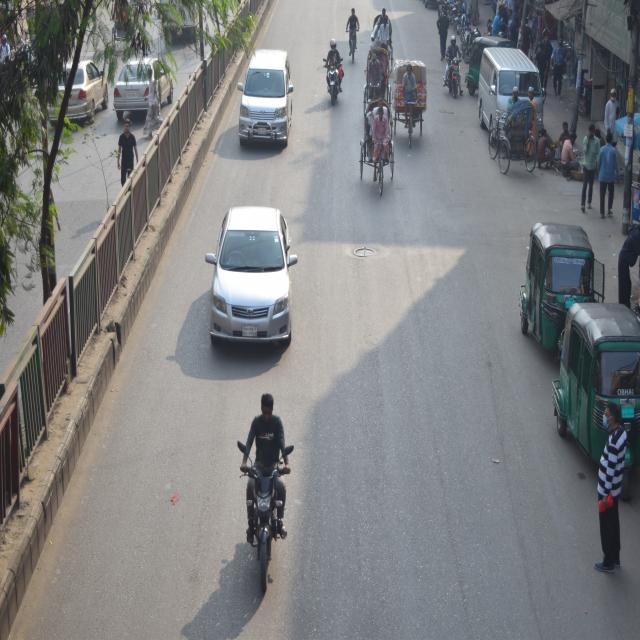car: (203, 208, 299, 350), (118, 55, 180, 112), (65, 60, 105, 123)
microbus: (476, 43, 544, 151), (229, 48, 296, 152)
motorbike: (238, 450, 288, 592), (323, 52, 342, 126), (442, 44, 462, 99)
